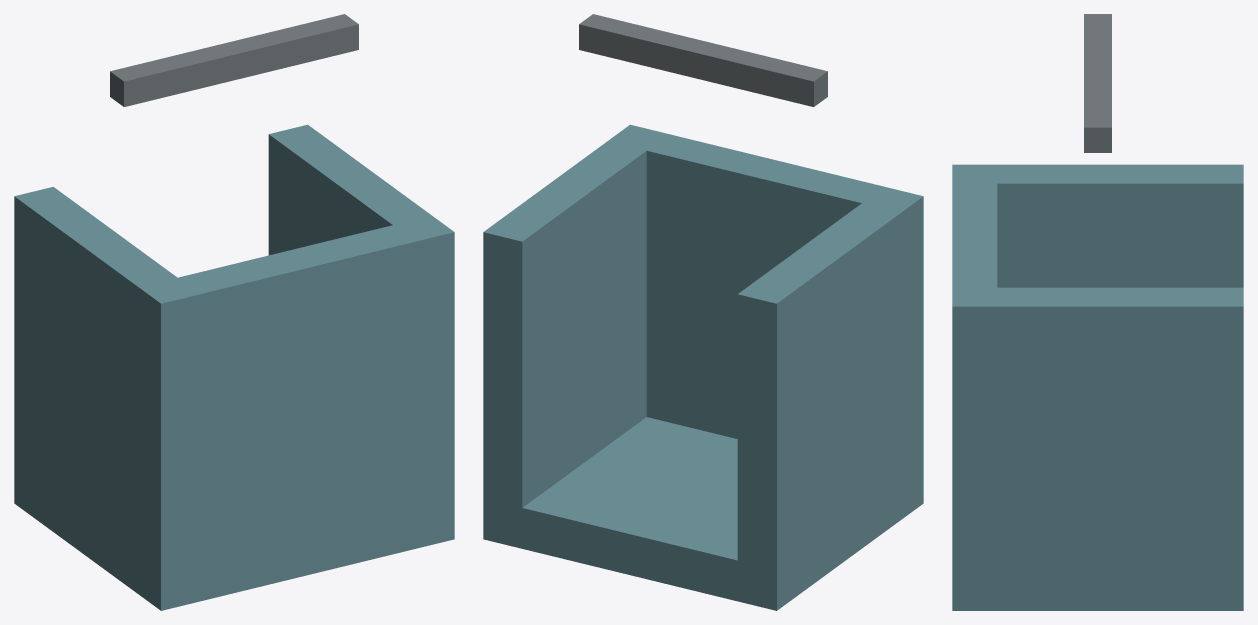
File: mop_bucket.glb
3 renders of one model, left to right at view 1: azimuth 30°, elevation 25°; view 2: azimuth 150°, elevation 25°; view 3: azimuth 270°, elevation 25°, orthographic.
Parts seen in each view (by area): view 1: body, handle; view 2: body, handle; view 3: body, handle.
Part boxes in pixels (x1,y1,x2,y2): body: (14, 124, 454, 610); handle: (110, 14, 358, 106); body: (483, 124, 923, 610); handle: (579, 14, 827, 106); body: (952, 164, 1243, 610); handle: (1084, 14, 1111, 152).
Size of the model in its own units: 0.3 by 0.4625 by 0.26.
